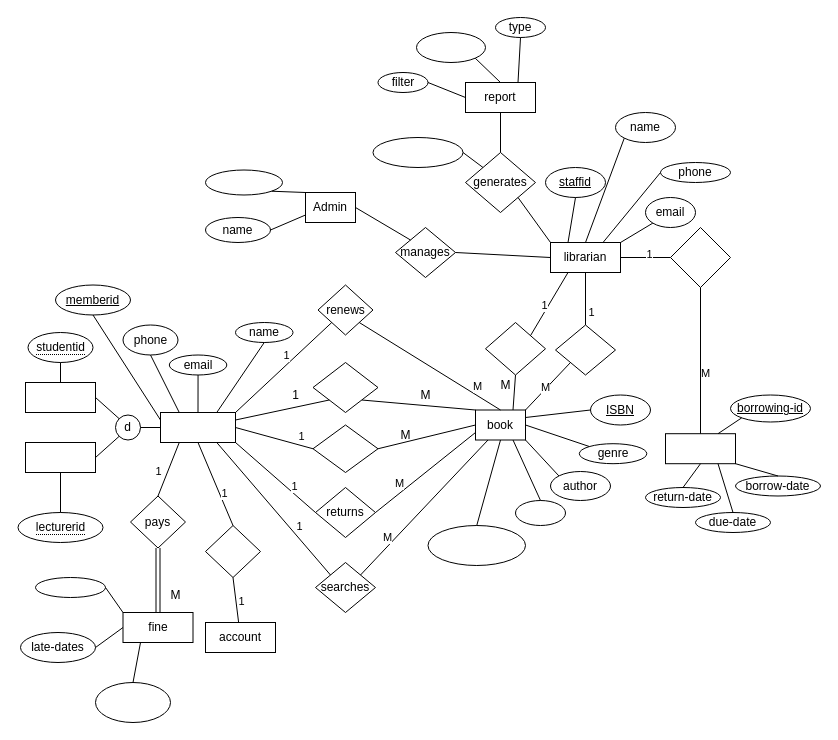
The diagram is 838 pixels wide and 740 high, and some of its shapes have lost their labels. The shapes that lost their labels are listed below. From the top down, each one's centre as x and y in pixels, then its label:
At pixel 451 47: "reportid".
At pixel 417 152: "generate_date".
At pixel 243 182: "adminid".
At pixel 700 257: "checks-out".
At pixel 515 348: "removes".
At pixel 585 349: "adds".
At pixel 60 397: "student".
At pixel 345 387: "reserves".
At pixel 198 427: "member".
At pixel 60 457: "lecturer".
At pixel 345 448: "borrows".
At pixel 700 448: "borrowing".
At pixel 540 513: "title".
At pixel 232 551: "checks".
At pixel 476 545: "publication_date".
At pixel 70 587: "fineid".
At pixel 132 702: "charge-for-day".
